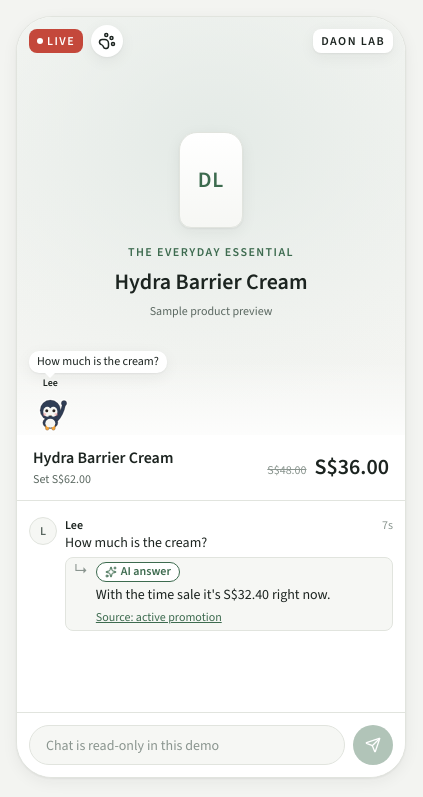
Viewer chat › an AI answer citing the active promotion says 'Source: active promotion' (item 5)
Click the button "Source: active promotion" at point(159, 617), box [96,609,222,626]
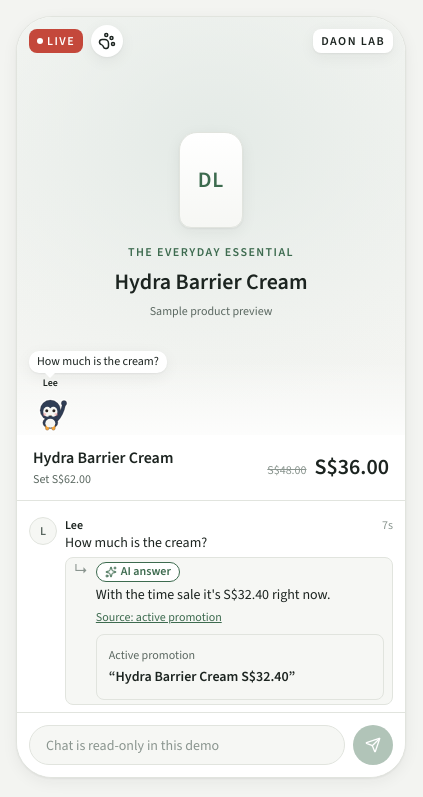
Result: the element with test id "viewer-source-details" shows "Hydra Barrier Cream S$32.40" at [116,667,289,686]
